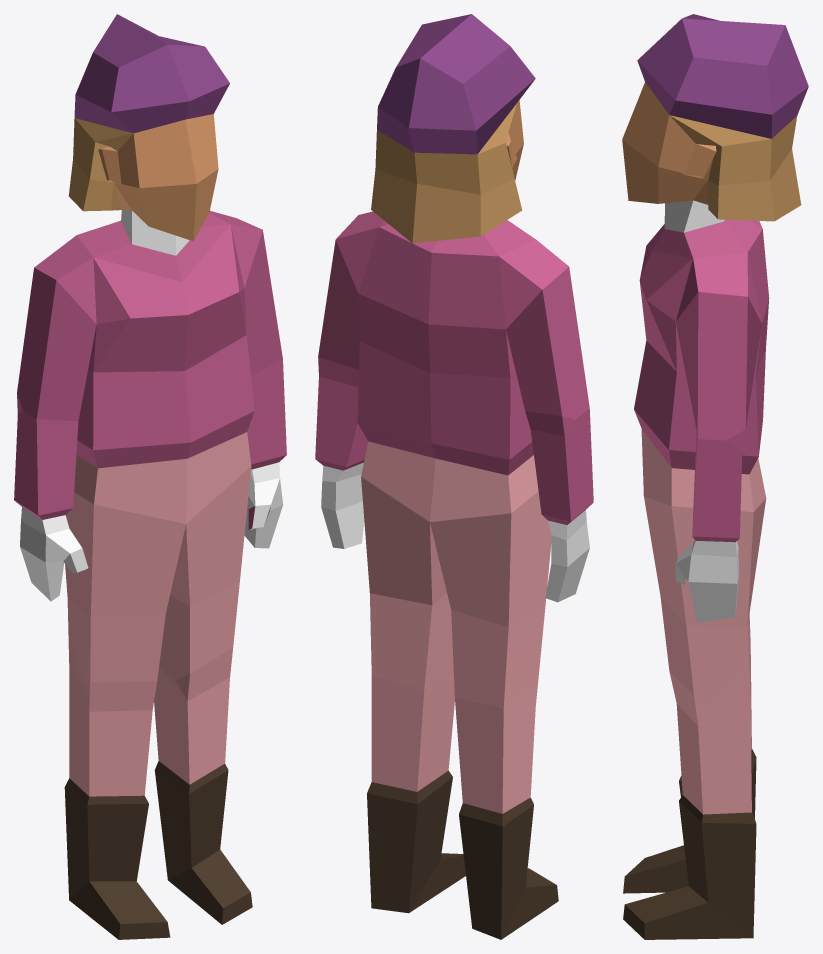
File: people_girl-winter.fbx
3 views of the same model, side by side, from view 1: azimuth 30°, elevation 25°; view 2: azimuth 150°, elevation 25°; view 3: azimuth 270°, elevation 25° (orthographic). The views are drawn at different scales.
Visible parts, largest first — view 1: people_girl_winter; view 2: people_girl_winter; view 3: people_girl_winter.
Boxes of the visible parts, <box> form: people_girl_winter: <box>14,14,286,939</box>; people_girl_winter: <box>315,14,593,939</box>; people_girl_winter: <box>622,14,808,939</box>.
Size of the model in its own units: 60.54 by 200 by 38.09.
